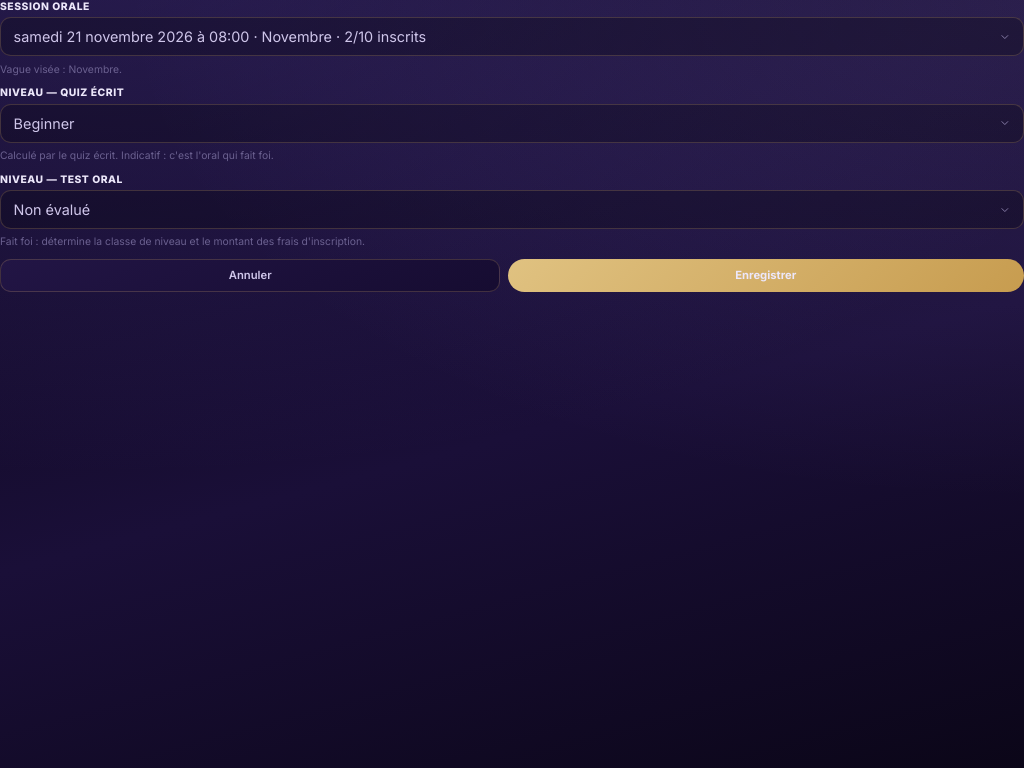
Scenario: ModifierParcoursCollectif — la session orale › annonce la vague de chaque session et son remplissage
The width and height of the screenshot is (1024, 768).
Step 1. Click the button named "Session orale" → (220, 37), box left=0, top=17, right=1023, bottom=56
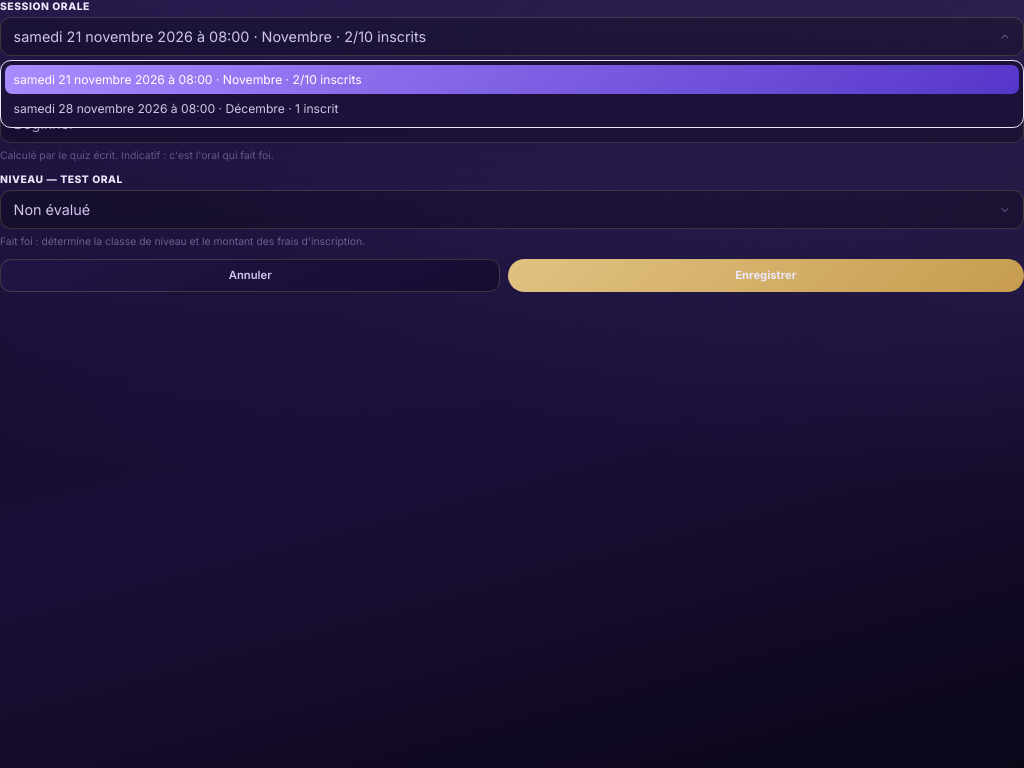
Check: the option "samedi 21 novembre 2026 à 08:00 · Novembre · 2/10 inscrits" is shown, box left=5, top=65, right=1019, bottom=94
Check: the option "samedi 28 novembre 2026 à 08:00 · Décembre · 1 inscrit" is shown, box left=5, top=94, right=1019, bottom=124
